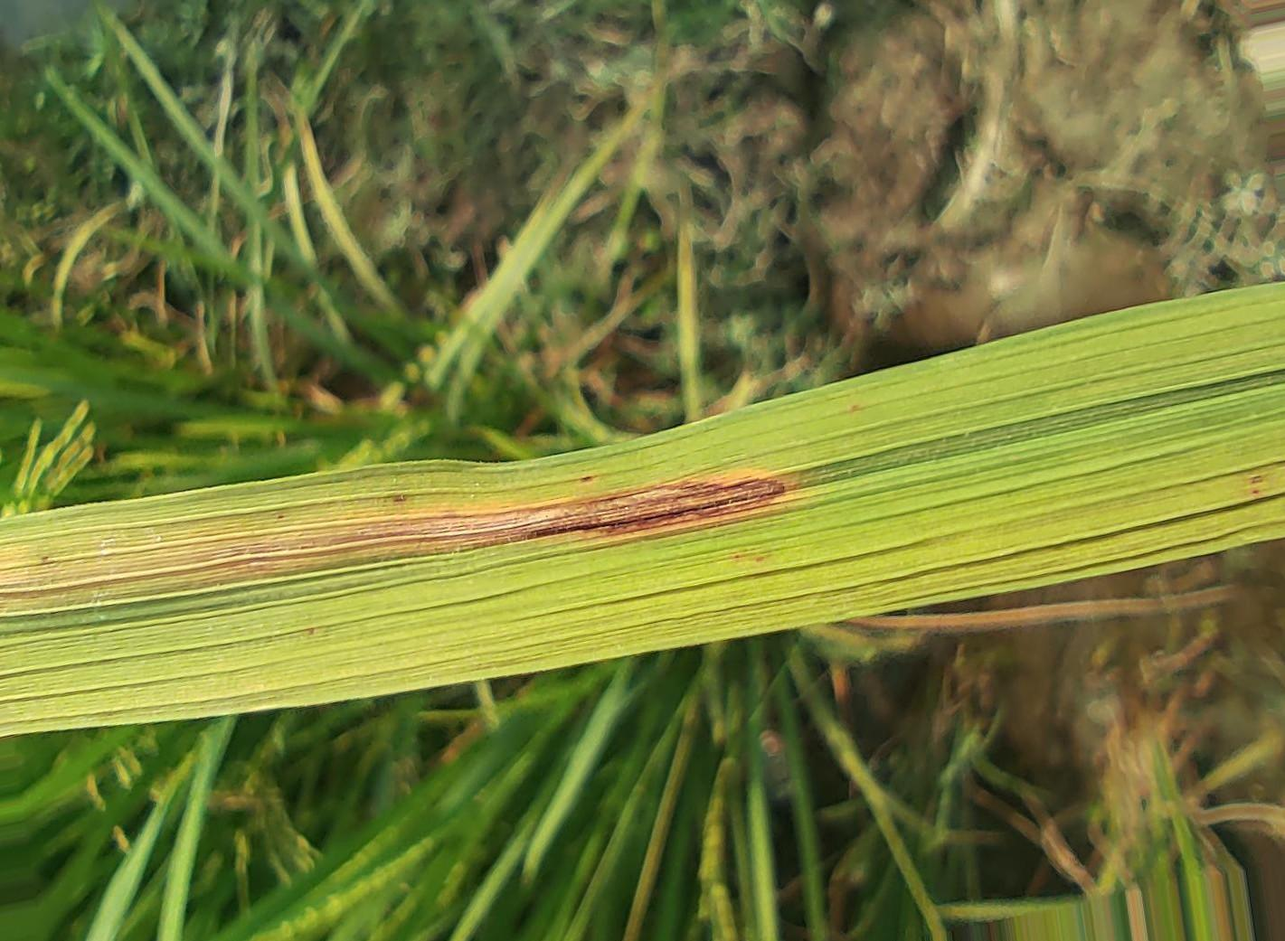LEAF: (0, 285, 1284, 735)
LEAF BLAST: (396, 476, 791, 545)
